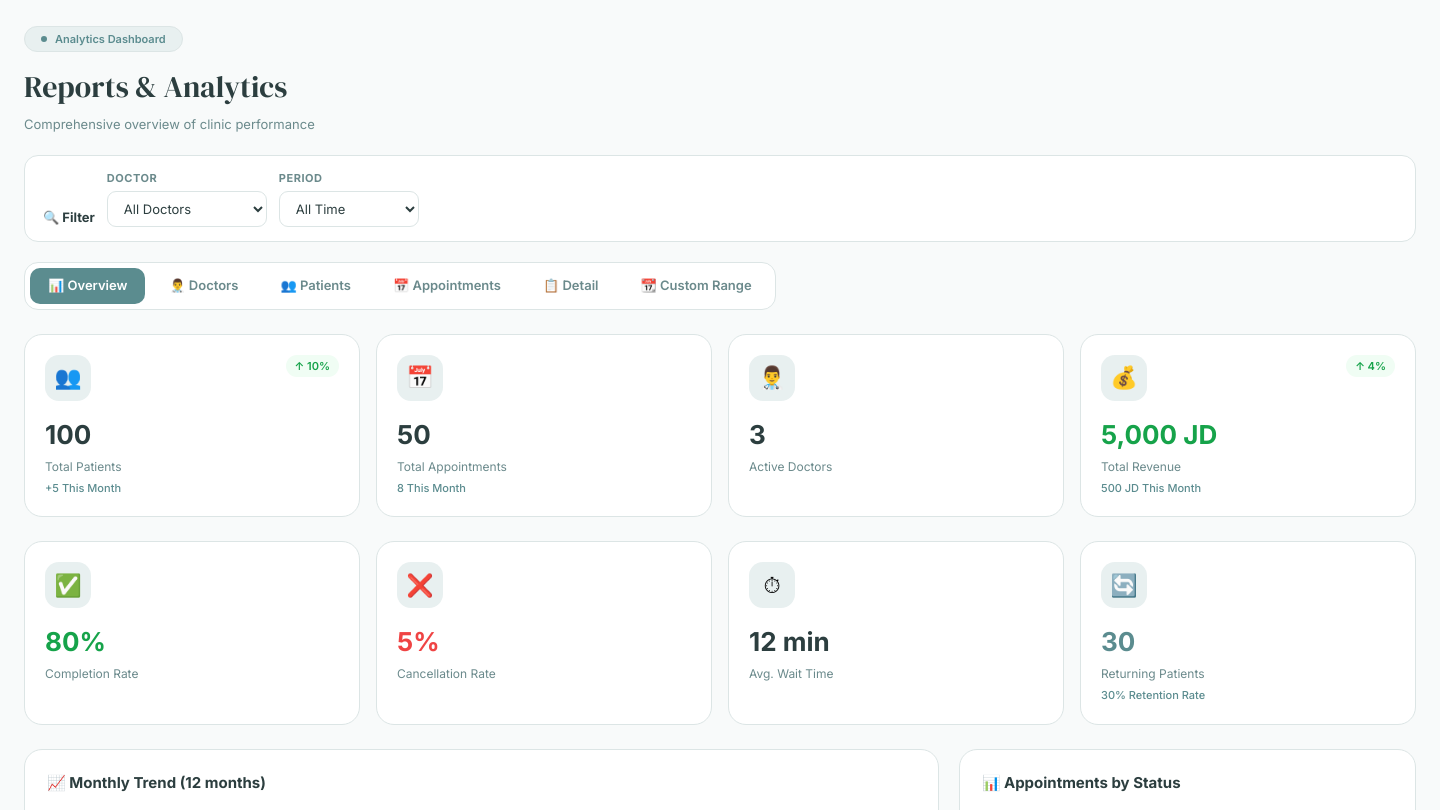
Reports › switches to the Doctors tab and shows doctor performance
Expected: the text "Total Patients" is shown, [45,459,122,474]
Click the button "👨‍⚕️ Doctors".
click(204, 286)  # box [151,268,256,304]
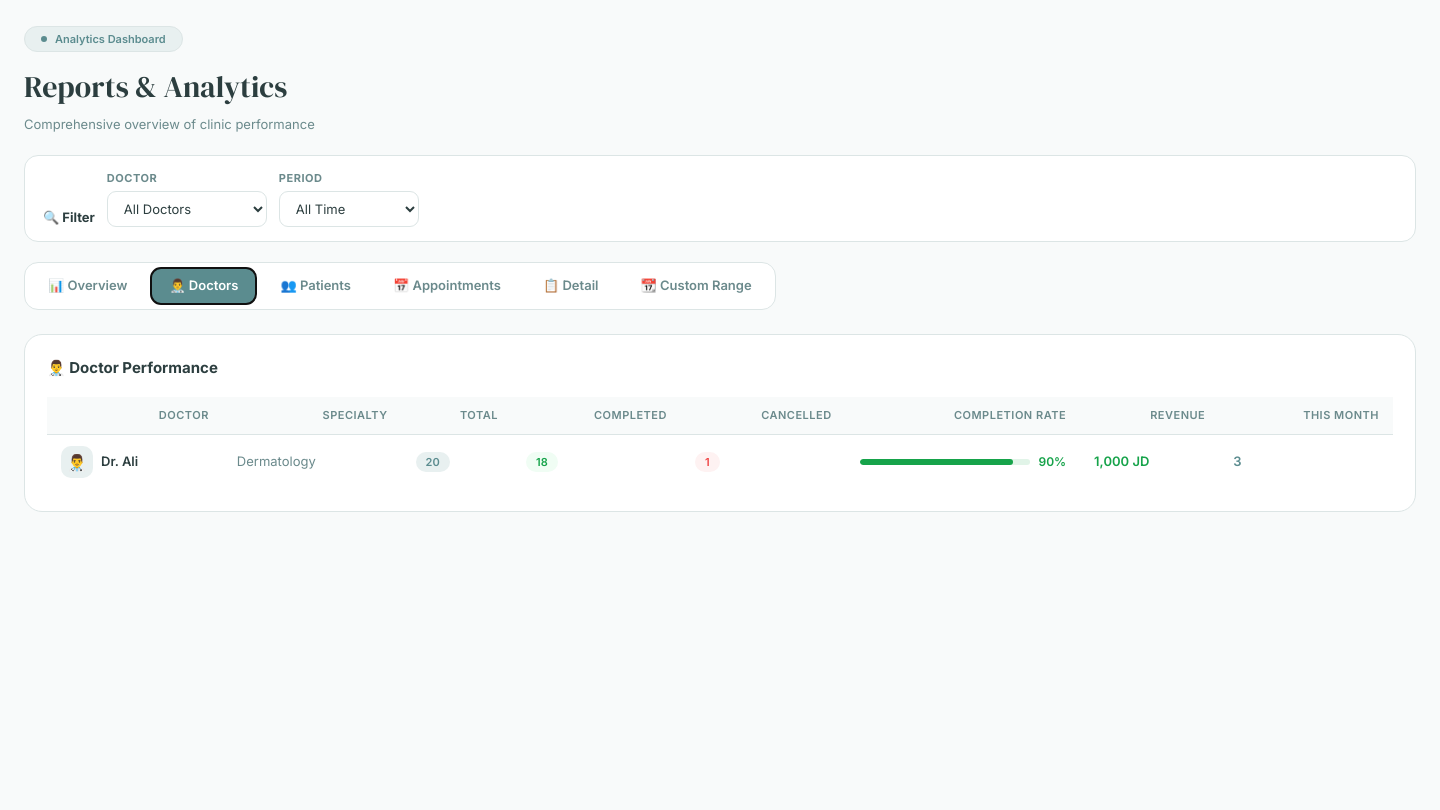
Result: the text "Dr. Ali" is shown at [101,453,138,469]
Result: the text "Dermatology" is shown at [223,434,402,489]
